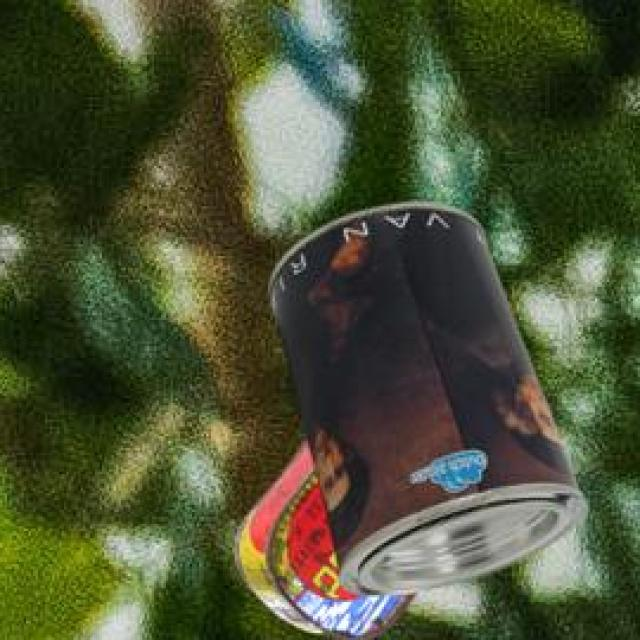logam: (274, 205, 589, 599), (238, 442, 418, 640)
